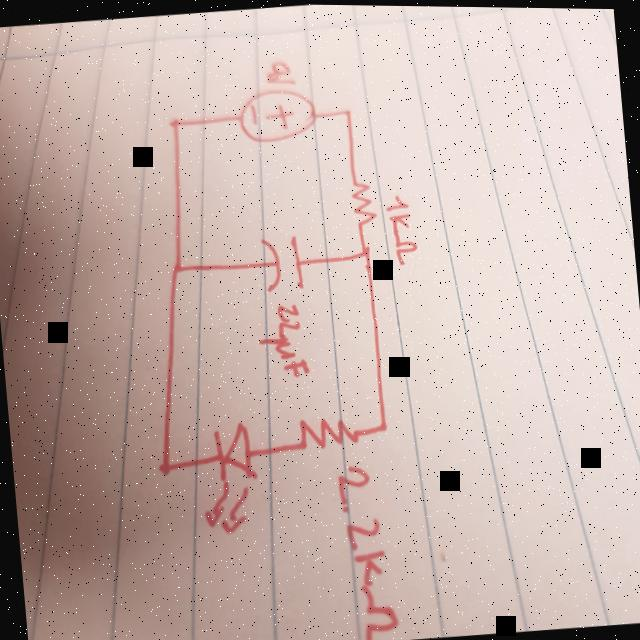capacitor: (253, 228, 308, 297)
diode: (195, 417, 263, 537)
junction: (351, 241, 373, 263), (157, 454, 177, 478), (166, 255, 188, 276), (375, 414, 393, 438), (165, 111, 184, 133), (338, 101, 356, 119)
resistor: (296, 412, 354, 458), (345, 178, 379, 226)
source: (234, 81, 318, 146)
text: (334, 460, 400, 640), (252, 300, 312, 387), (382, 189, 421, 269), (262, 55, 296, 86)
